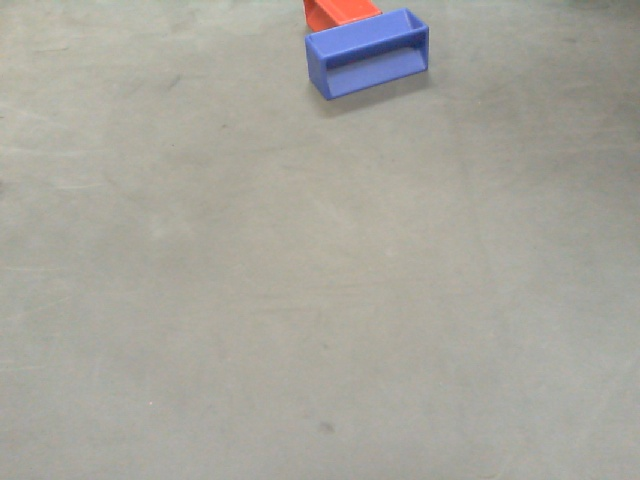BlueSample: (303, 5, 430, 105)
RedSample: (293, 1, 385, 34)
